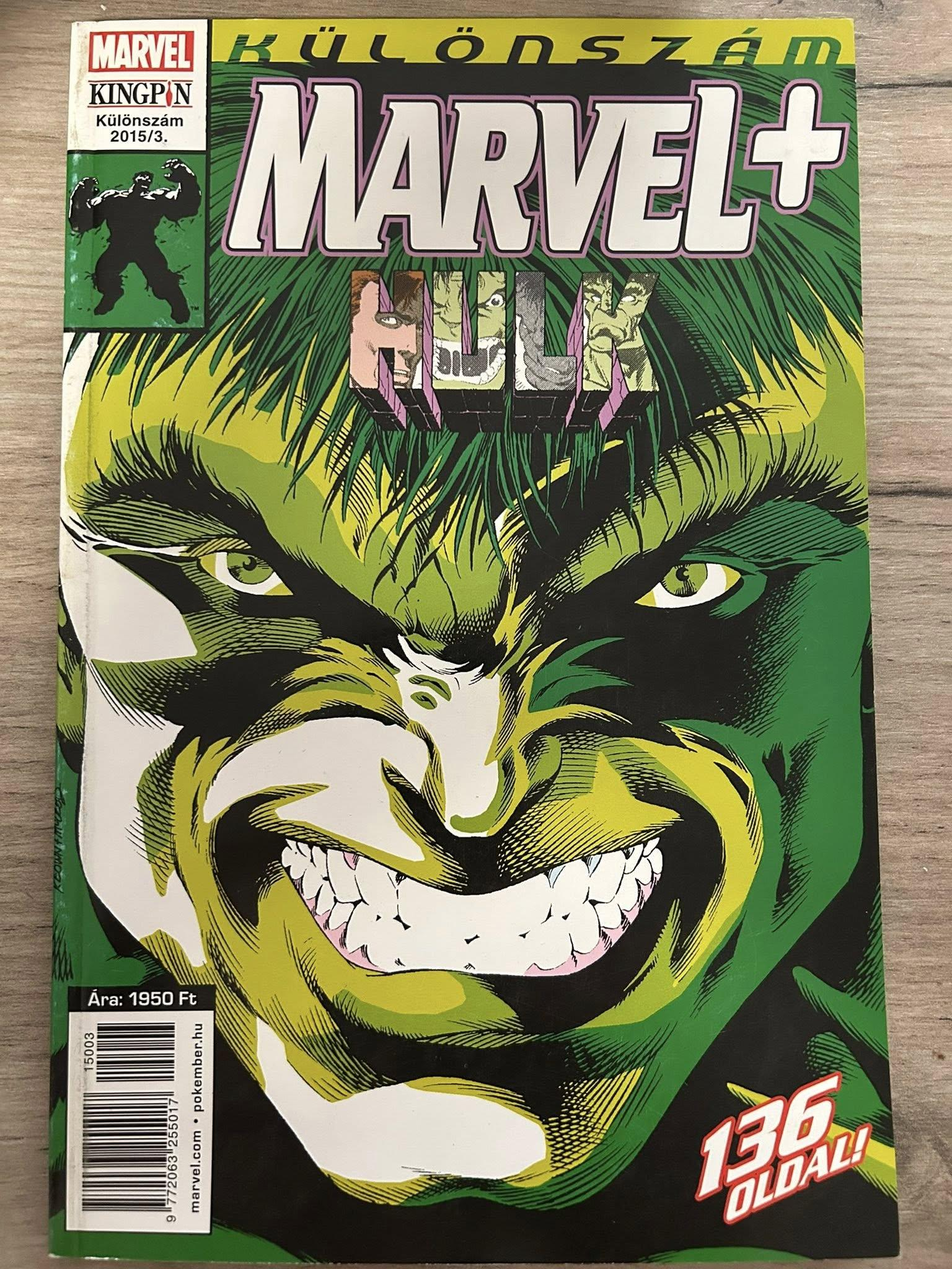comic: (49, 17, 896, 1262)
